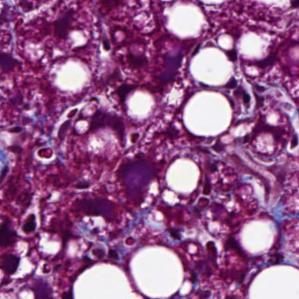inflammation: (230, 79, 257, 117), (16, 205, 44, 239), (198, 231, 224, 262)
